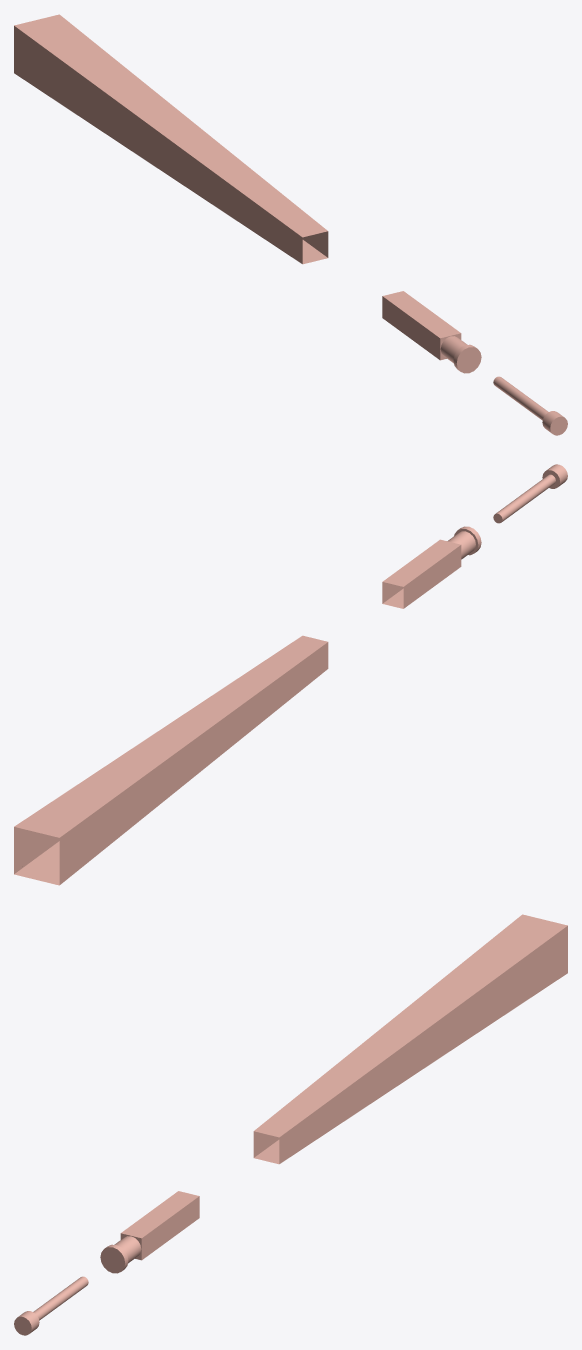
Rendered from MeshFloorLamp_7_0_GeomSubset_0.obj.
3 views of the same model, one above another, from view 1: azimuth 30°, elevation 25°; view 2: azimuth 150°, elevation 25°; view 3: azimuth 330°, elevation 25° (orthographic).
Parts seen in each view (by area): view 1: MeshFloorLamp_7_0_GeomSubset_0; view 2: MeshFloorLamp_7_0_GeomSubset_0; view 3: MeshFloorLamp_7_0_GeomSubset_0.
Boxes of the visible parts, box(x1,y1,x2,y2) form: MeshFloorLamp_7_0_GeomSubset_0: box(14, 14, 567, 435); MeshFloorLamp_7_0_GeomSubset_0: box(14, 464, 567, 885); MeshFloorLamp_7_0_GeomSubset_0: box(14, 914, 567, 1335).
Bounding box in the file's own units: 0.0912 × 0.0912 × 1.86.
